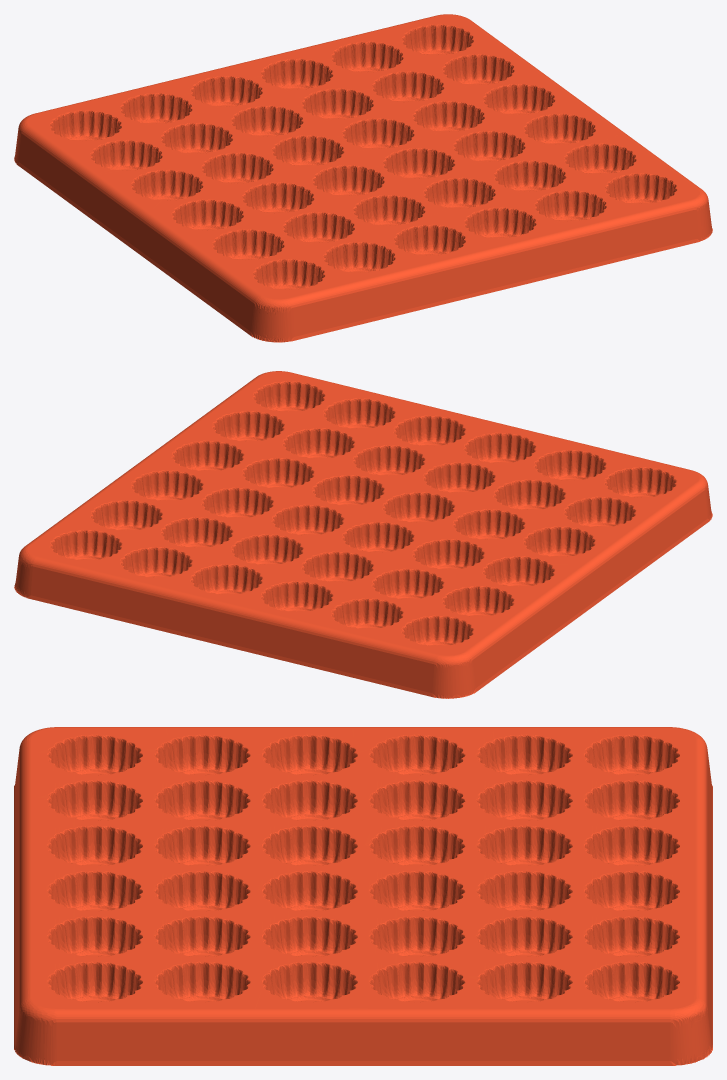
Rendered from mold.glb.
3 views of the same model, one above another, from view 1: azimuth 30°, elevation 25°; view 2: azimuth 150°, elevation 25°; view 3: azimuth 270°, elevation 25° (orthographic). The views are drawn at different scales.
Parts seen in each view (by area): view 1: geometry_0; view 2: geometry_0; view 3: geometry_0.
Boxes of the visible parts, bbox=[...] form: geometry_0: bbox=[14, 14, 712, 342]; geometry_0: bbox=[14, 371, 712, 698]; geometry_0: bbox=[14, 727, 712, 1065].
Bounding box in the file's own units: 0.1447 × 0.0114 × 0.1447.
